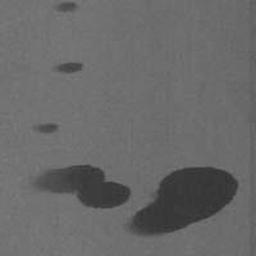Oil spot: (124, 165, 239, 237), (19, 164, 132, 210), (50, 61, 84, 74), (31, 122, 61, 134), (50, 1, 78, 13)
